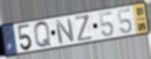5: (117, 7, 134, 35), (17, 23, 33, 52), (99, 10, 115, 38)
N: (54, 17, 76, 45)
Q: (33, 21, 53, 50)
Z: (73, 14, 94, 43)
